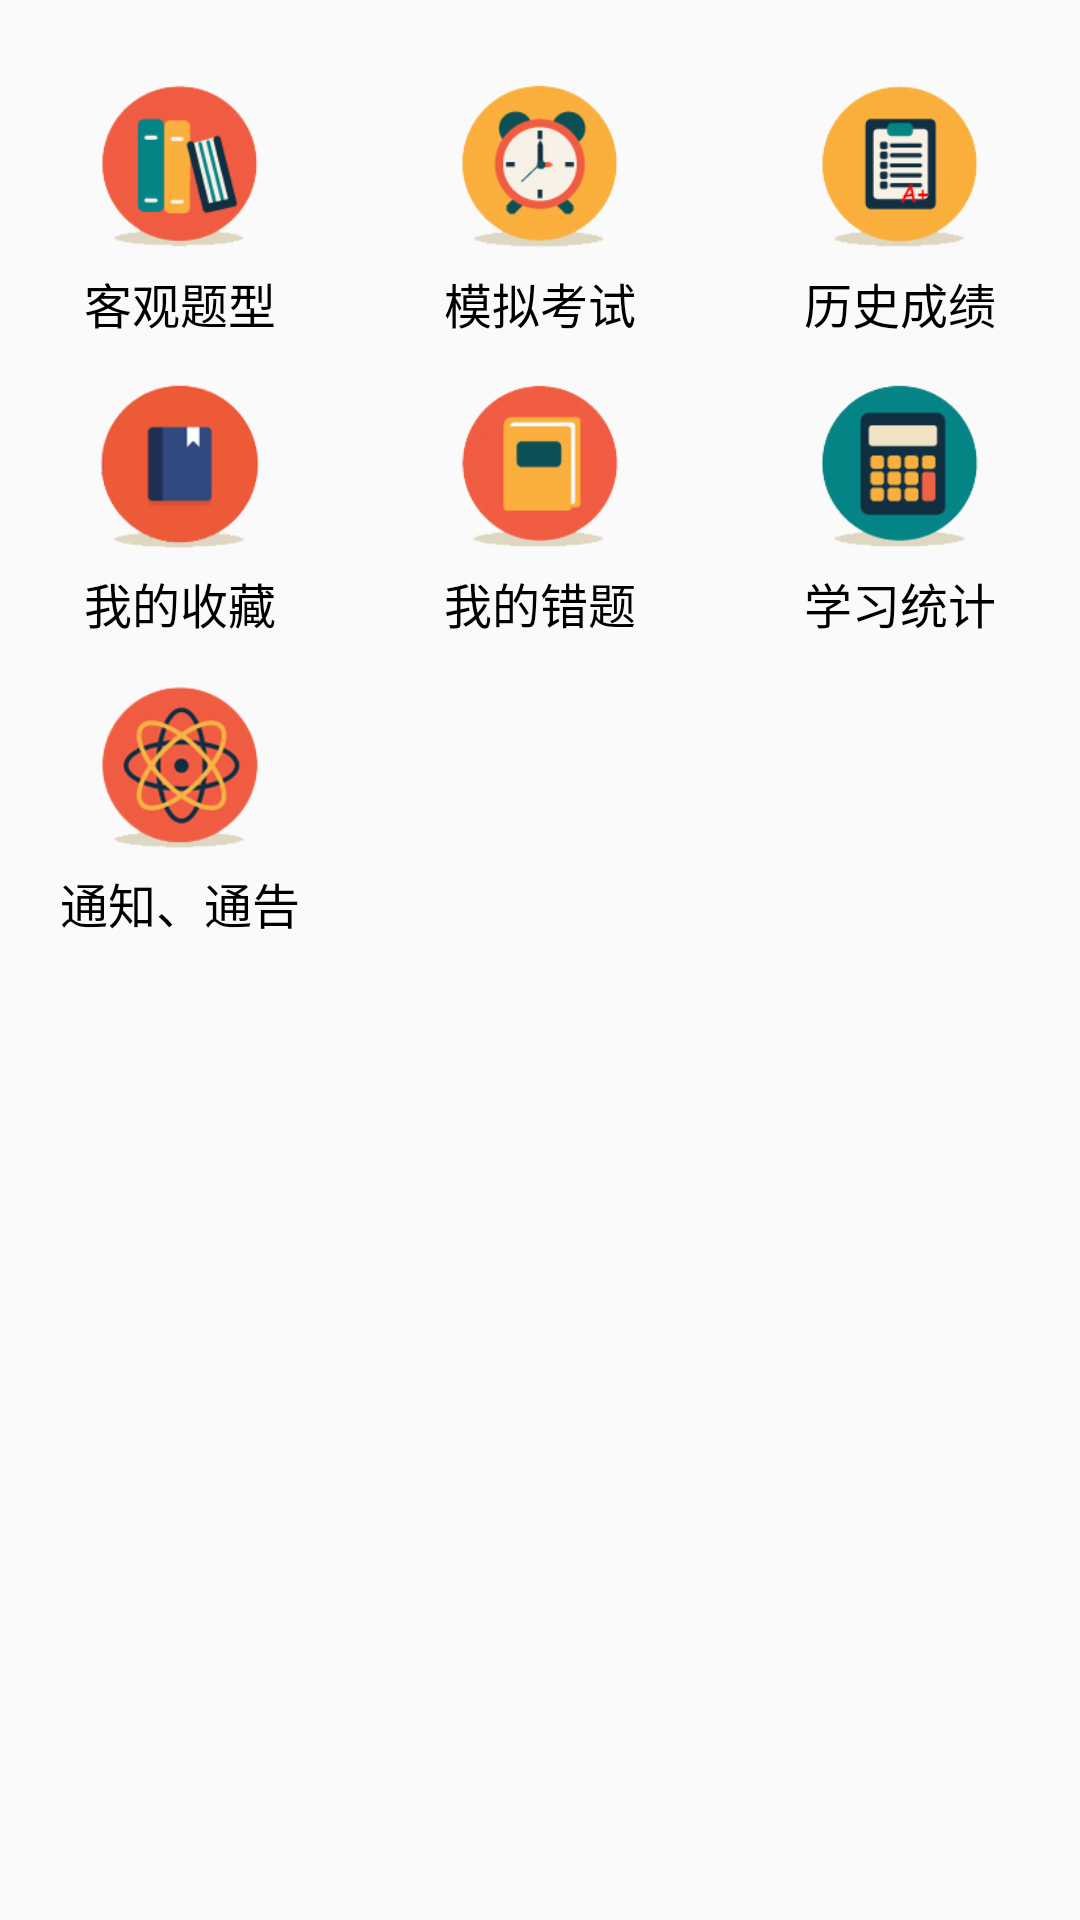

Named icons in this screenshot (1080 × 1920) and their bounding boxes, (x1, y1, x2, y2):
chapterexericse: (102, 86, 257, 246)
